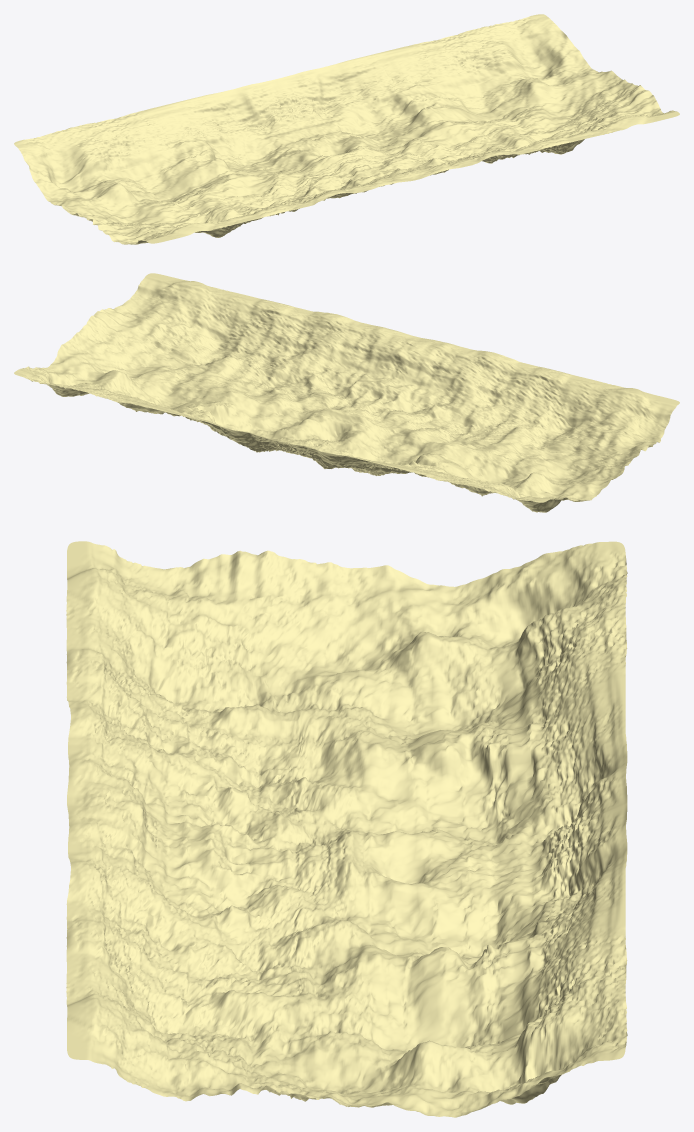
The model's file is sol_Low_test.fbx.
3 views of the same model, one above another, from view 1: azimuth 30°, elevation 25°; view 2: azimuth 150°, elevation 25°; view 3: azimuth 270°, elevation 25° (orthographic). The views are drawn at different scales.
Parts seen in each view (by area): view 1: PM3D_Plane3D1; view 2: PM3D_Plane3D1; view 3: PM3D_Plane3D1.
Boxes of the visible parts, left/top/right/bottom form: PM3D_Plane3D1: left=14, top=14, right=679, bottom=244; PM3D_Plane3D1: left=14, top=273, right=679, bottom=512; PM3D_Plane3D1: left=66, top=541, right=627, bottom=1117.
Bounding box in the file's own units: 2244 × 985 × 196.
